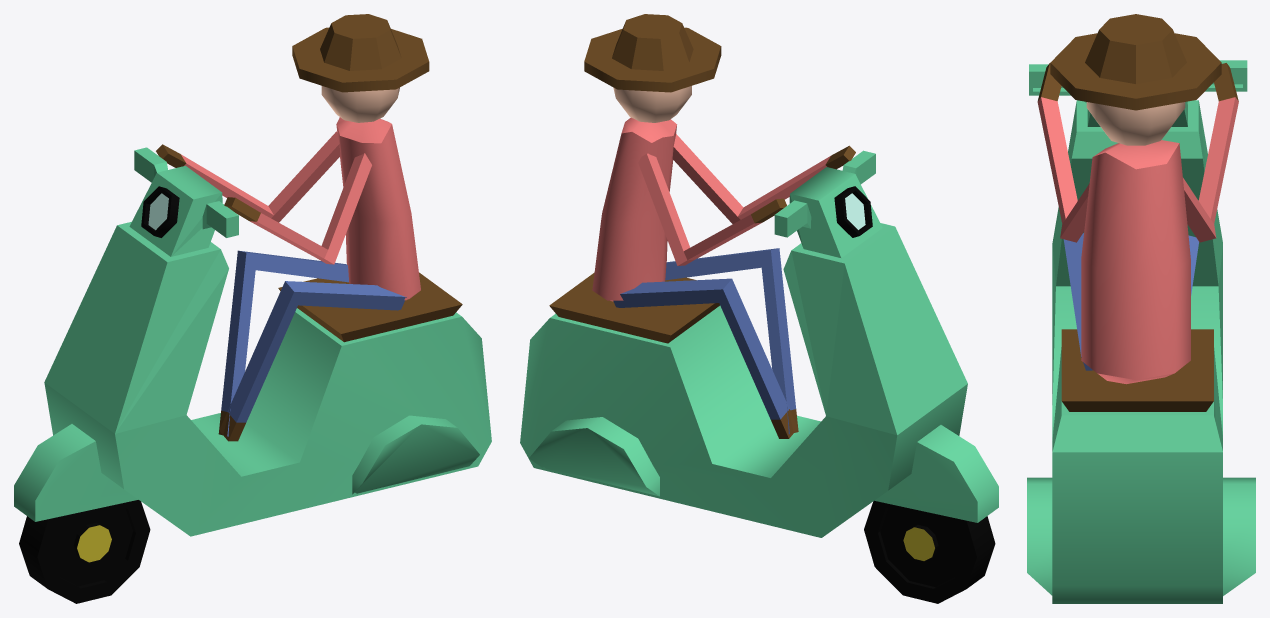
The model's file is MotorNew.fbx.
3 views of the same model, side by side, from view 1: azimuth 30°, elevation 25°; view 2: azimuth 150°, elevation 25°; view 3: azimuth 270°, elevation 25° (orthographic). The views are drawn at different scales.
Parts seen in each view (by area): view 1: Box072, Cylinder085, Cylinder074, Cylinder086, Cylinder076; view 2: Box072, Cylinder085, Cylinder074, Cylinder086, Cylinder076; view 3: Box072, Cylinder085, Cylinder086.
Part boxes in pixels (bbox=[...]): Box072: bbox=[14, 147, 491, 536]; Cylinder085: bbox=[156, 86, 420, 441]; Cylinder074: bbox=[19, 500, 150, 603]; Cylinder086: bbox=[292, 14, 429, 92]; Cylinder076: bbox=[141, 186, 179, 237]; Box072: bbox=[520, 150, 998, 537]; Cylinder085: bbox=[592, 86, 855, 438]; Cylinder074: bbox=[864, 500, 995, 603]; Cylinder086: bbox=[584, 14, 721, 92]; Cylinder076: bbox=[834, 186, 872, 237]; Box072: bbox=[1027, 60, 1255, 603]; Cylinder085: bbox=[1037, 63, 1238, 384]; Cylinder086: bbox=[1050, 14, 1221, 110].
Bounding box in the file's own units: 105 × 116 × 39.94.
Materials: 8 (8 with a texture image).
